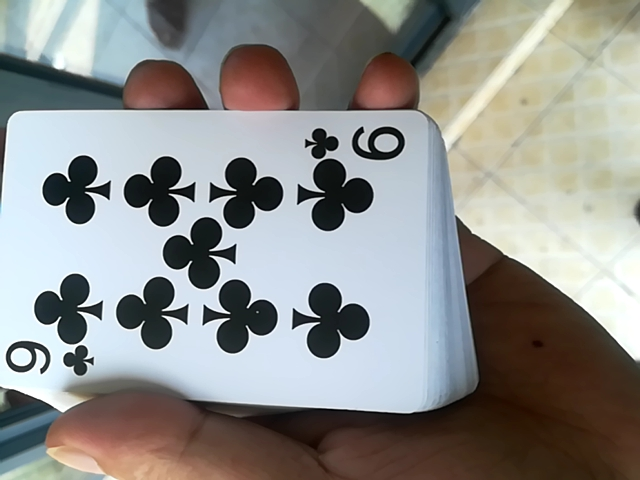mh 9: (1, 96, 469, 411)
